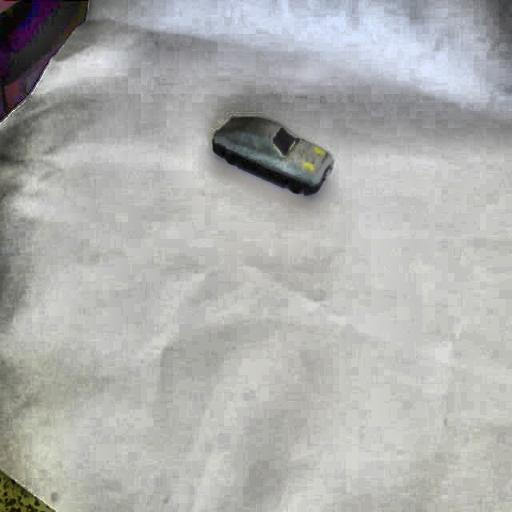normal_car: (204, 108, 334, 202)
